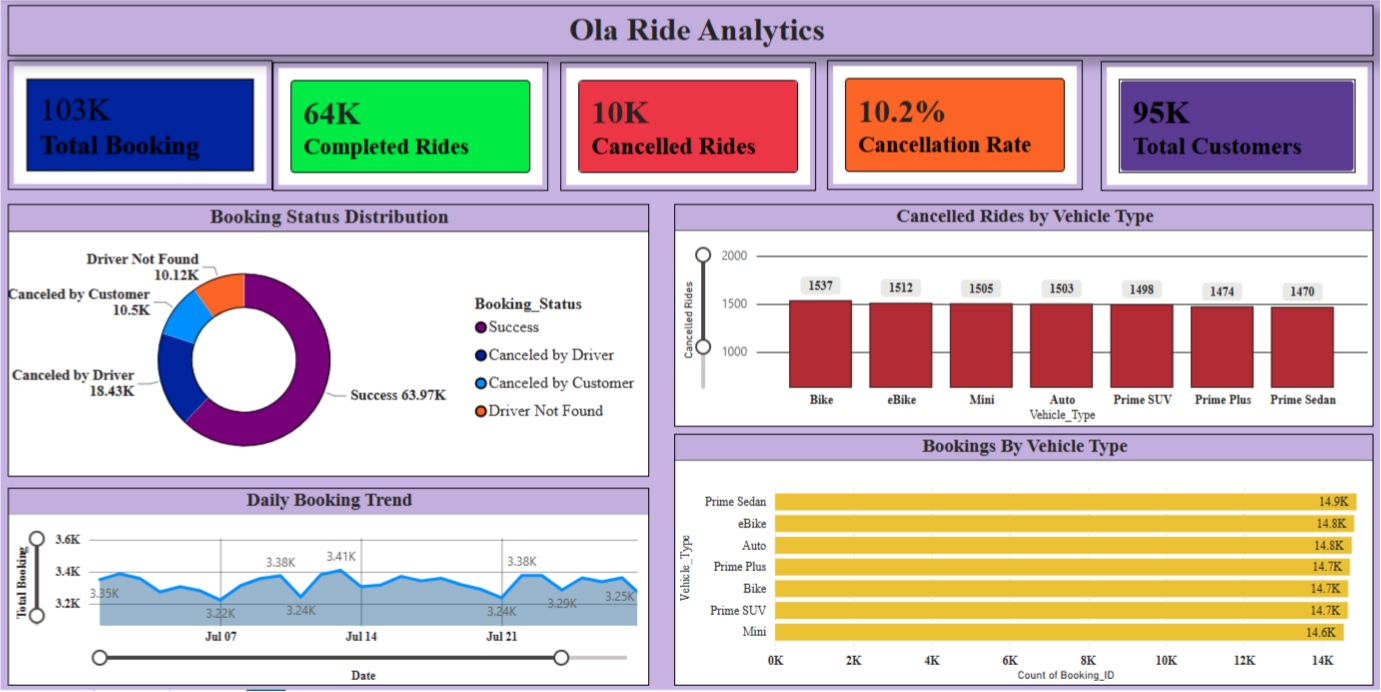

This screenshot's page, from the dashboard's own definition file:
{"tool":"powerbi","page":{"name":"Page 1","canvas":[1400,800],"ordinal":0},"visuals":[{"type":"cardVisual","fields":{"Data":["Ola Anal.Total Booking"]},"box":[19,76,265,130],"z":0},{"type":"textbox","box":[19,21,1367,51],"z":1000},{"type":"cardVisual","fields":{"Data":["Ola Anal.Completed rides"]},"box":[284,78,276,129],"z":2000},{"type":"cardVisual","fields":{"Data":["Ola Anal.Cancelled Rides"]},"box":[572,78,256,129],"z":3000},{"type":"cardVisual","fields":{"Data":["Ola Anal.Cancellation Rate"]},"box":[839,76,256,130],"z":4000},{"type":"cardVisual","fields":{"Data":["Ola Anal.Total Customers"]},"box":[1113,77,273,130],"z":5000},{"type":"donutChart","title":"Booking Status Distribution","fields":{"Category":["Ola Anal.Booking_Status"],"Y":["CountNonNull(Ola Anal.Booking_ID)"]},"box":[19,220,642,273],"z":6000},{"type":"barChart","title":"Bookings By Vehicle Type","fields":{"Category":["Ola Anal.Vehicle_Type"],"Y":["CountNonNull(Ola Anal.Booking_ID)"]},"box":[686,450,700,252],"z":7000},{"type":"clusteredColumnChart","title":"Cancelled Rides by Vehicle Type","fields":{"Y":["Ola Anal.Cancelled Rides"],"Category":["Ola Anal.Vehicle_Type"]},"box":[686,220,700,223],"z":8000},{"type":"lineChart","title":"Daily Booking Trend","fields":{"Y":["Ola Anal.Total Booking"],"Category":["Ola Anal.Date"]},"box":[19,504,642,198],"z":9000}]}

Visuals, with their boxes on the page's 1400x800 design canvas (x1, y1, x2, y2). These are canvas units, not pixel positions in the 1381x692 screenshot, which may show the page scaled, cropped or inside an application window:
cardVisual - Ola Anal.Total Booking: <bbox>19, 76, 284, 206</bbox>
textbox: <bbox>19, 21, 1386, 72</bbox>
cardVisual - Ola Anal.Completed rides: <bbox>284, 78, 560, 207</bbox>
cardVisual - Ola Anal.Cancelled Rides: <bbox>572, 78, 828, 207</bbox>
cardVisual - Ola Anal.Cancellation Rate: <bbox>839, 76, 1095, 206</bbox>
cardVisual - Ola Anal.Total Customers: <bbox>1113, 77, 1386, 207</bbox>
"Booking Status Distribution" donutChart: <bbox>19, 220, 661, 493</bbox>
"Bookings By Vehicle Type" barChart: <bbox>686, 450, 1386, 702</bbox>
"Cancelled Rides by Vehicle Type" clusteredColumnChart: <bbox>686, 220, 1386, 443</bbox>
"Daily Booking Trend" lineChart: <bbox>19, 504, 661, 702</bbox>
